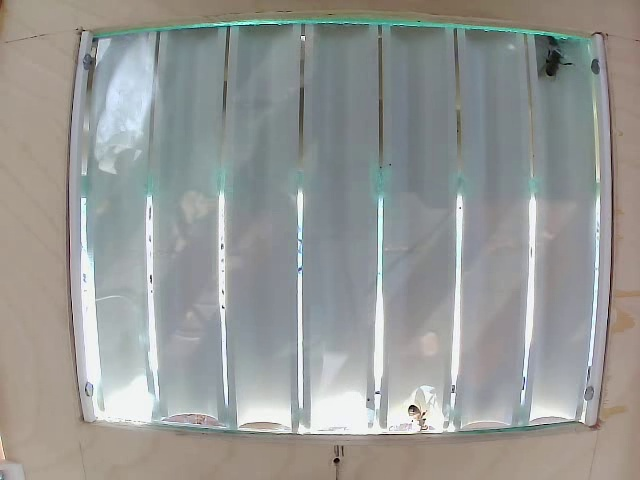bee: (537, 36, 566, 101), (399, 393, 430, 429)
